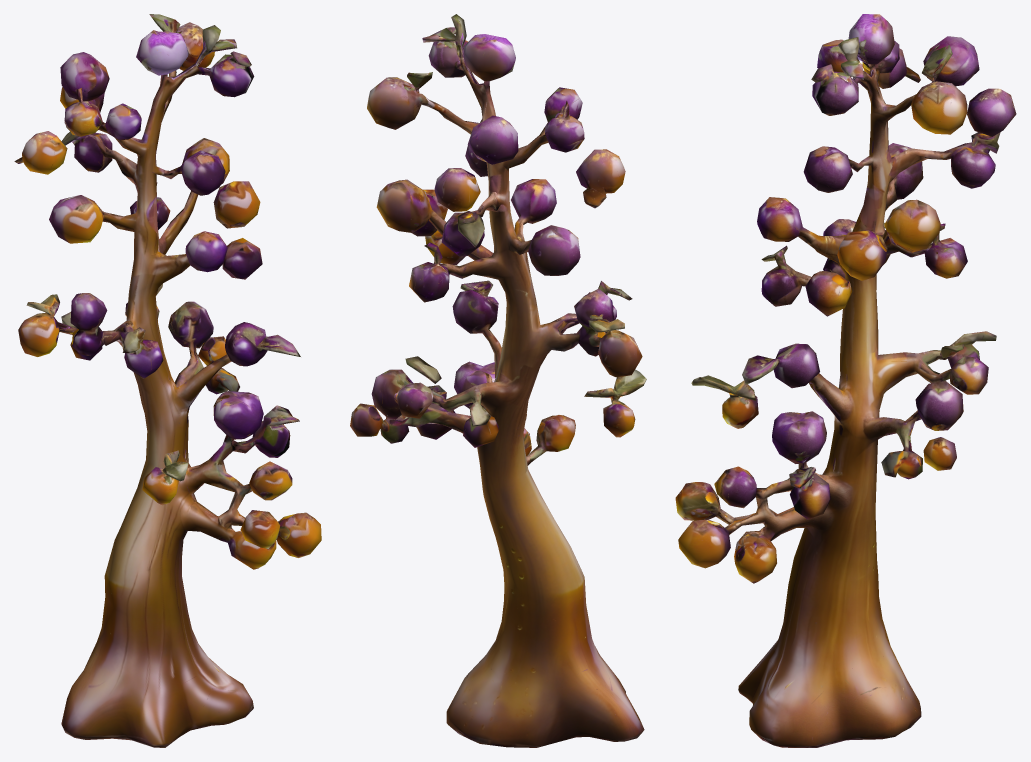
The picture shows the model from 3 angles, left to right: view 1: azimuth 30°, elevation 25°; view 2: azimuth 150°, elevation 25°; view 3: azimuth 270°, elevation 25°; orthographic projection. The views are drawn at different scales.
Parts seen in each view (by area): view 1: Mesh1.0; view 2: Mesh1.0; view 3: Mesh1.0.
Part boxes in pixels (bbox=[...]): Mesh1.0: bbox=[14, 14, 321, 747]; Mesh1.0: bbox=[350, 14, 646, 747]; Mesh1.0: bbox=[675, 14, 1016, 747].
Size of the model in its own units: 77.98 by 201 by 87.55.
1 material, 1 textured.
